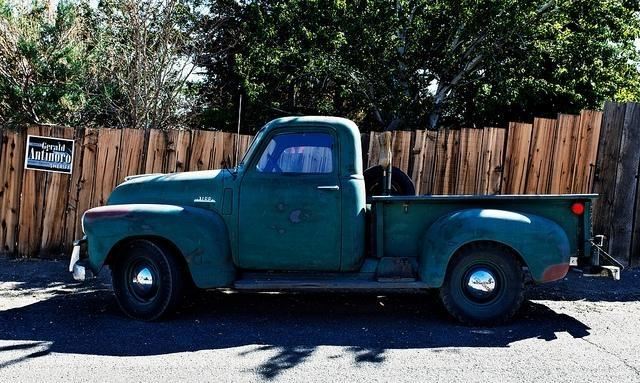truck: (66, 117, 625, 324)
